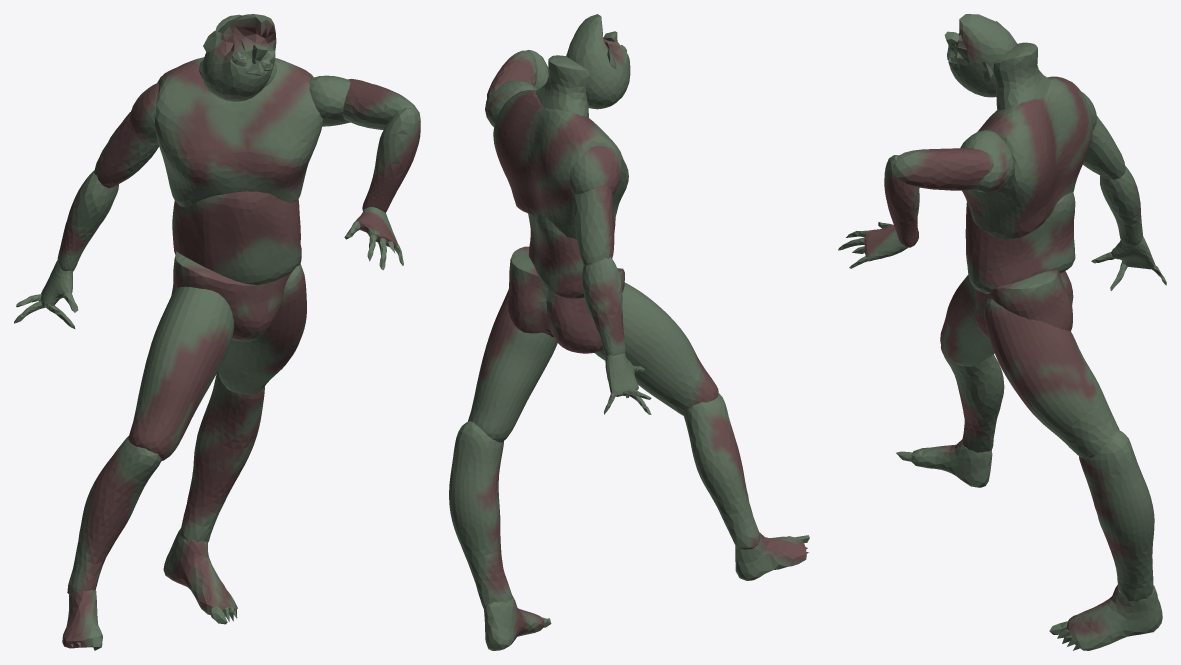
The model's file is zombie.glb.
The picture shows the model from 3 angles, left to right: view 1: azimuth 30°, elevation 25°; view 2: azimuth 150°, elevation 25°; view 3: azimuth 270°, elevation 25°; orthographic projection. The views are drawn at different scales.
Visible parts, largest first — view 1: GEO-pelvis_male_primitive_realistic; view 2: GEO-pelvis_male_primitive_realistic; view 3: GEO-pelvis_male_primitive_realistic.
Part boxes in pixels (x1,y1,x2,y2): GEO-pelvis_male_primitive_realistic: (14,14,420,650); GEO-pelvis_male_primitive_realistic: (449,14,809,650); GEO-pelvis_male_primitive_realistic: (838,14,1166,650).
Bounding box in the file's own units: 0.9104 × 1.66 × 0.7992.
